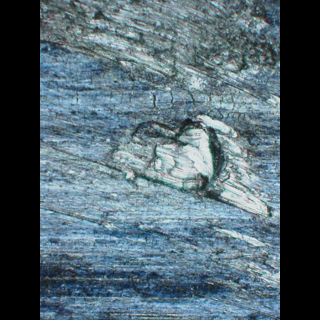d: (100, 105, 276, 221)
